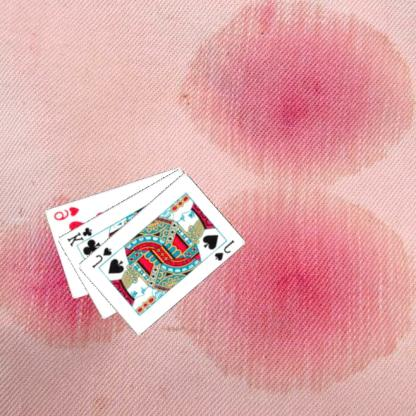9H: (53, 203, 82, 222)
JS: (213, 237, 238, 262), (91, 244, 115, 269)
KC: (66, 224, 101, 249)
